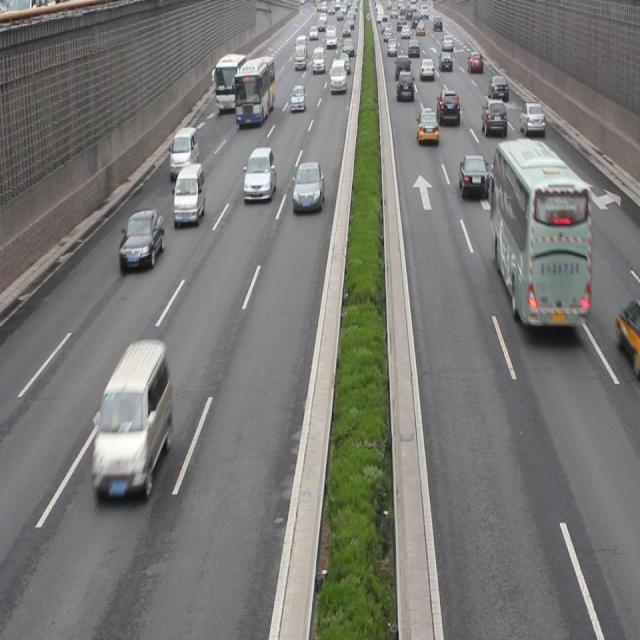car: (120, 211, 164, 269), (243, 148, 275, 202), (292, 162, 324, 212), (458, 153, 488, 201), (481, 100, 506, 137), (416, 106, 439, 145), (519, 100, 543, 137)
truck: (91, 343, 172, 497), (172, 163, 205, 225), (170, 126, 199, 180)
van: (491, 139, 590, 330), (234, 56, 275, 126)
